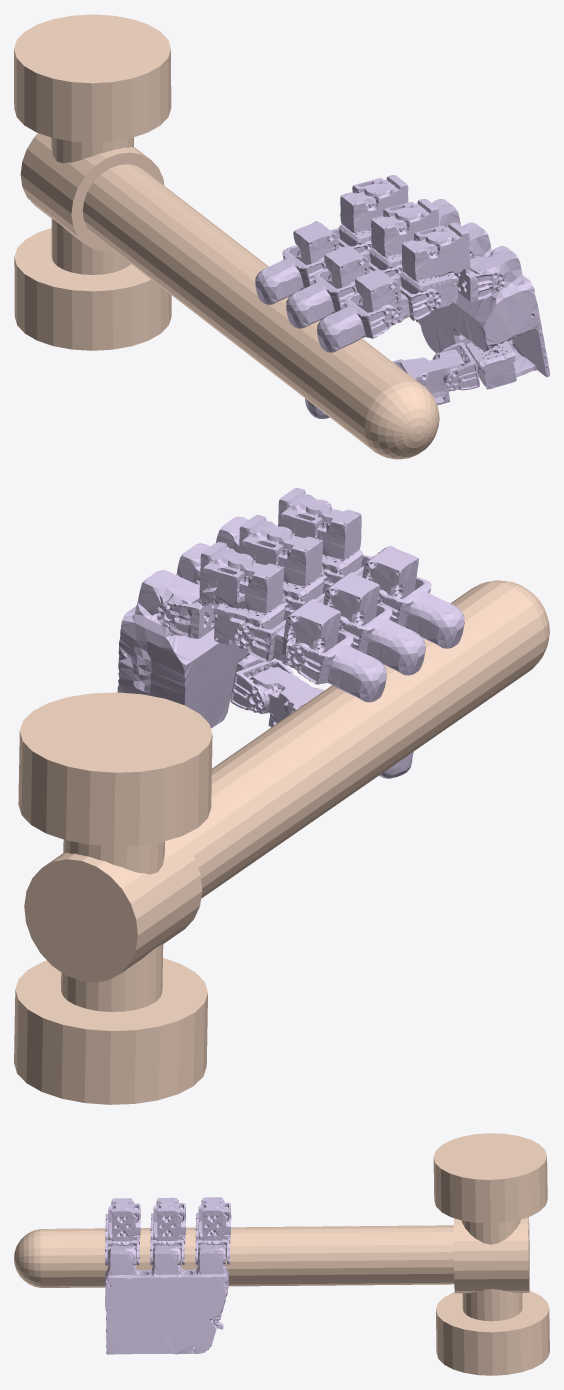
The model's file is 289abb28c22157-final.glb.
The picture shows the model from 3 angles, top to bottom: view 1: azimuth 30°, elevation 25°; view 2: azimuth 150°, elevation 25°; view 3: azimuth 270°, elevation 25°; orthographic projection. The views are drawn at different scales.
Parts seen in each view (by area): view 1: world, LEAP_hand; view 2: world, LEAP_hand; view 3: world, LEAP_hand.
Boxes of the visible parts, <box> form: world: <box>14,14,439,459</box>; LEAP_hand: <box>255,175,549,418</box>; world: <box>14,580,549,1104</box>; LEAP_hand: <box>117,488,464,778</box>; world: <box>14,1133,549,1375</box>; LEAP_hand: <box>105,1197,231,1354</box>.
Size of the model in its own units: 0.2192 by 0.218 by 0.5384.
